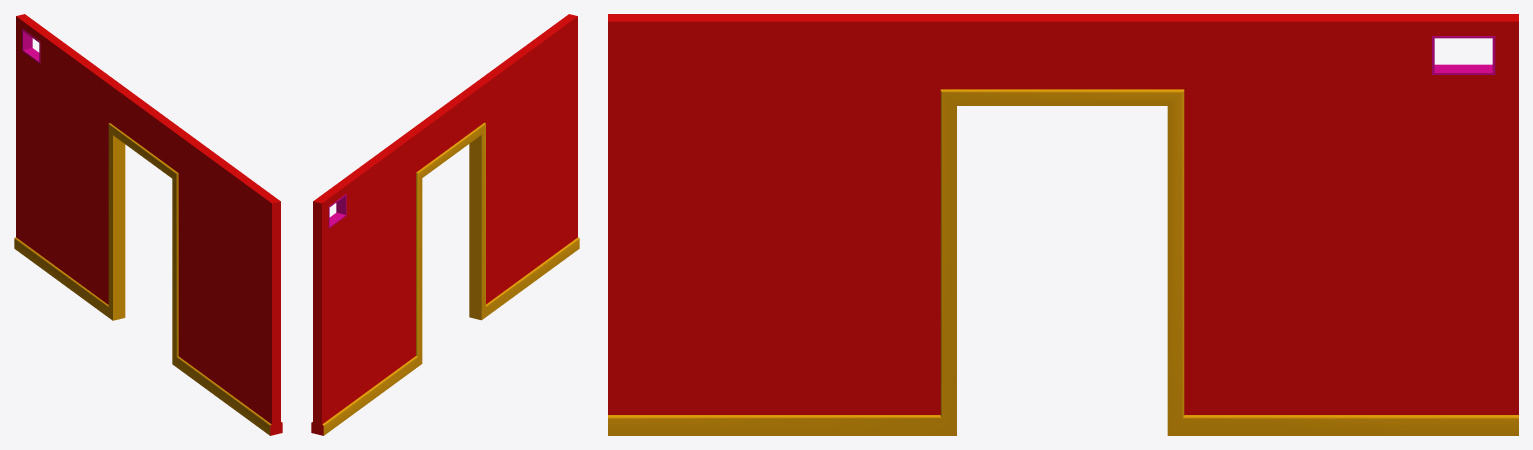
File: Wall_01 1.fbx
3 views of the same model, side by side, from view 1: azimuth 30°, elevation 25°; view 2: azimuth 150°, elevation 25°; view 3: azimuth 270°, elevation 25° (orthographic). The views are drawn at different scales.
Parts seen in each view (by area): view 1: Wall_01; view 2: Wall_01; view 3: Wall_01.
Part boxes in pixels (x1=…): Wall_01: x1=14, y1=14, x2=282, y2=435; Wall_01: x1=311, y1=14, x2=579, y2=435; Wall_01: x1=608, y1=14, x2=1518, y2=435.
Size of the model in its own units: 282 by 5000 by 10000.
